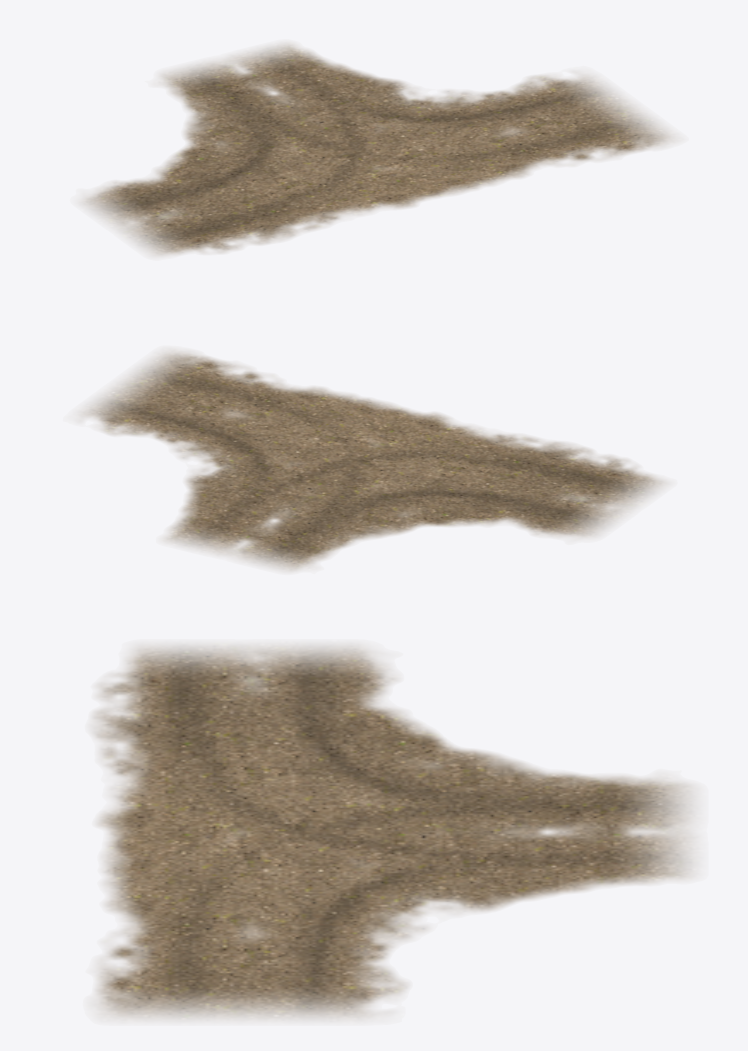
File: road_tee_drive_drive.glb
3 renders of one model, top to bottom at view 1: azimuth 30°, elevation 25°; view 2: azimuth 150°, elevation 25°; view 3: azimuth 270°, elevation 25°, orthographic. The views are drawn at different scales.
Visible parts, largest first — view 1: road_tee_drive_drive; view 2: road_tee_drive_drive; view 3: road_tee_drive_drive.
Part boxes in pixels (box(x1,y1,x2,y2)): road_tee_drive_drive: box(82, 43, 673, 255); road_tee_drive_drive: box(80, 351, 665, 570); road_tee_drive_drive: box(93, 646, 692, 1018).
Size of the model in its own units: 11.25 by 0 by 8.38.
1 material, 1 textured.
